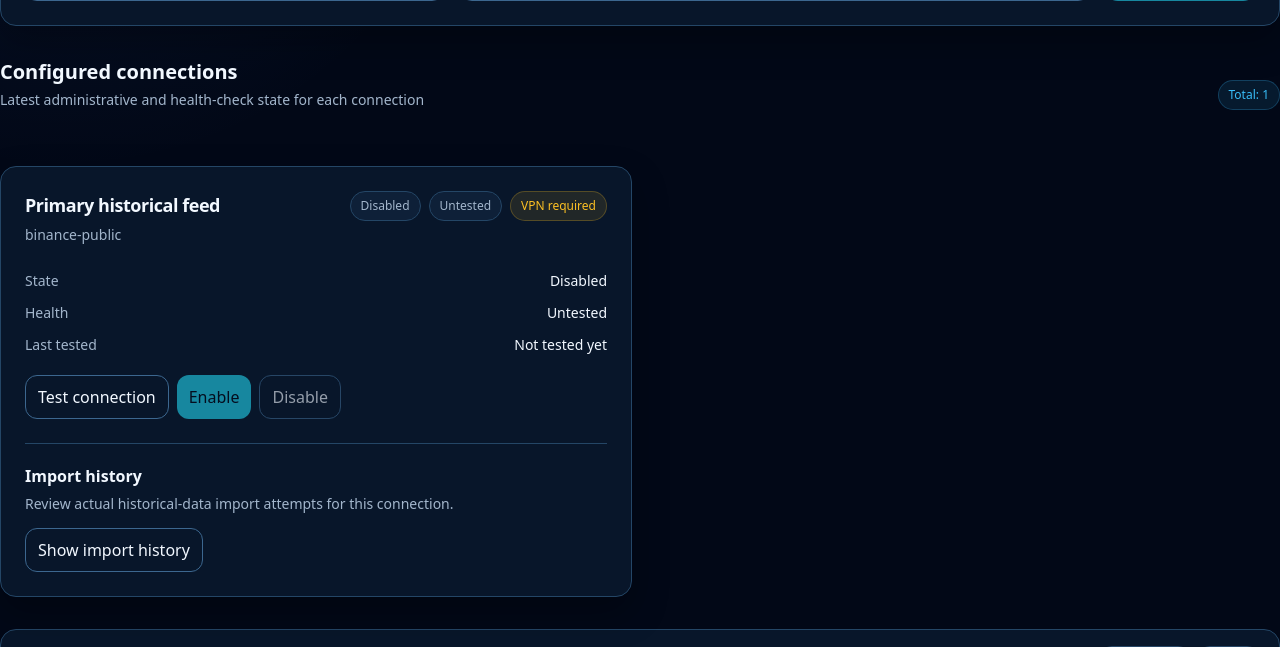
Scenario: MarketDataConnectionsPanel › moves a connection through test, enable, and disable actions
(page scrolled)
Expected: the button "Enable" is disabled, [177,375,252,419]
Click the button "Test connection": x=97, y=397 [25,375,169,419]
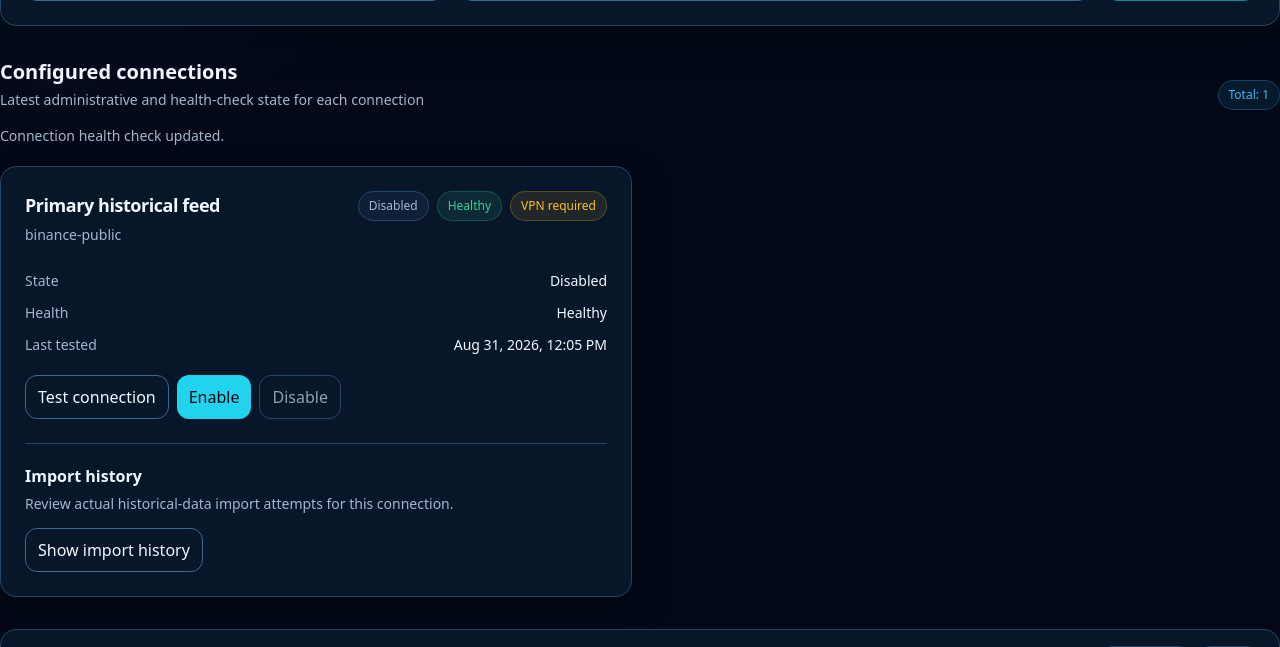
Now the text "Healthy" in the row of "Primary historical feed" is shown, box [448,197,491,214]
Now the button "Enable" is enabled
Click the button "Enable": x=214, y=397 [177,375,252,419]
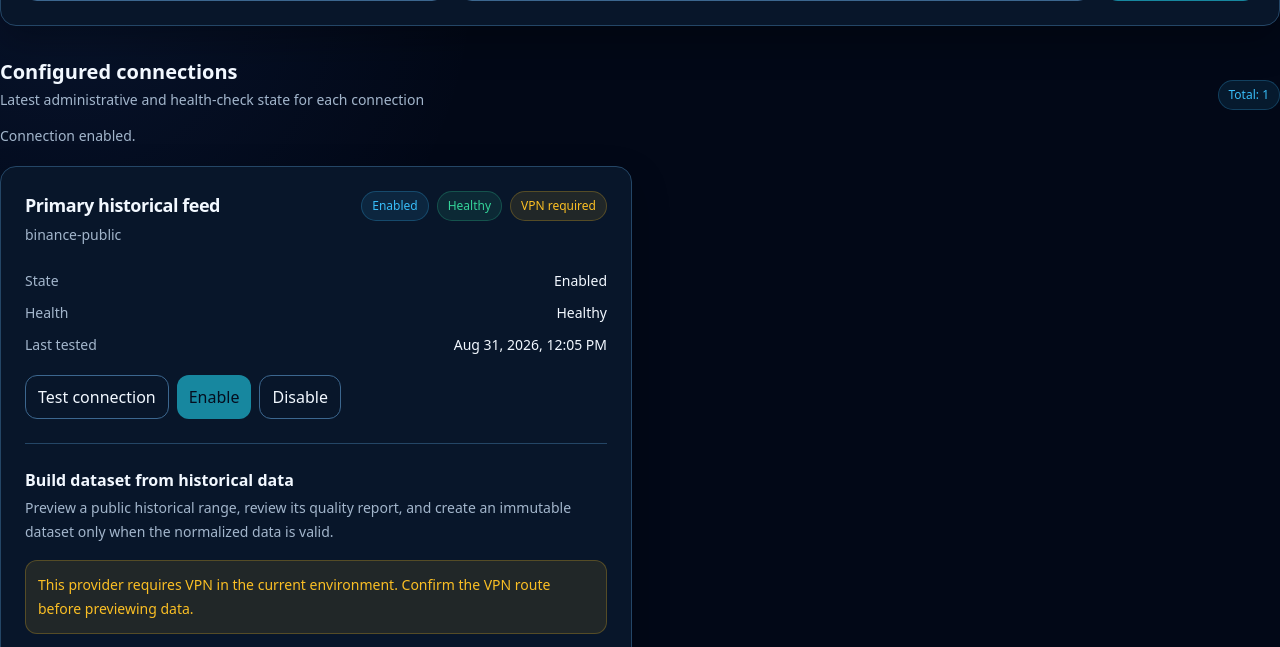
Now the button "Disable" is enabled
Click the button "Disable": x=300, y=397 [260,375,341,419]
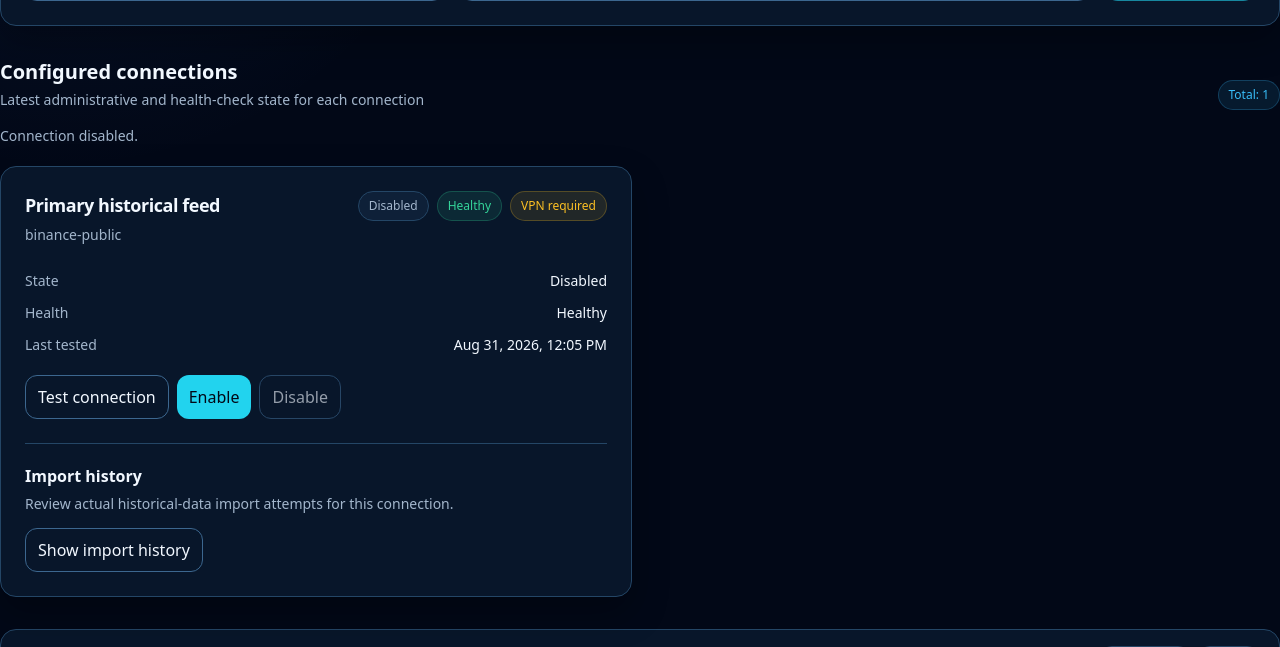
Now the button "Disable" is disabled, box [260,375,341,419]
